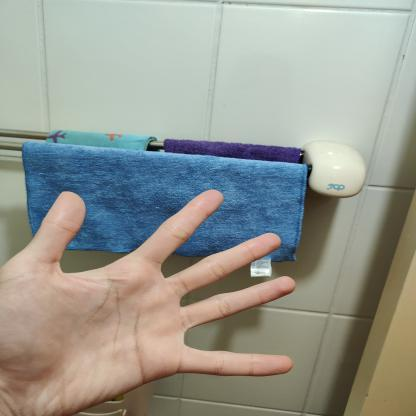bare_hand: (0, 178, 305, 415)
